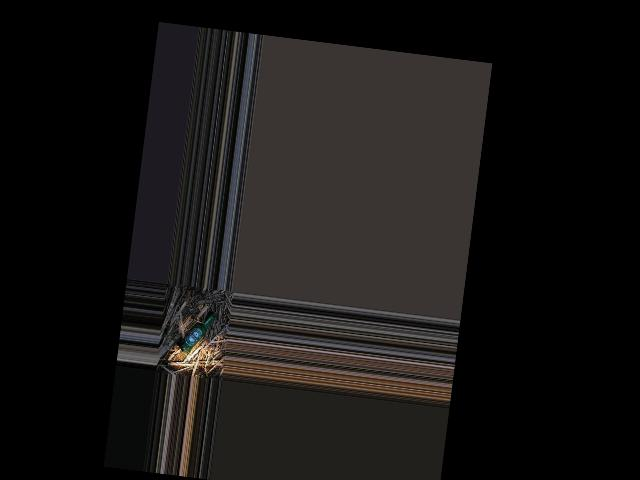beer: (175, 307, 216, 355)
